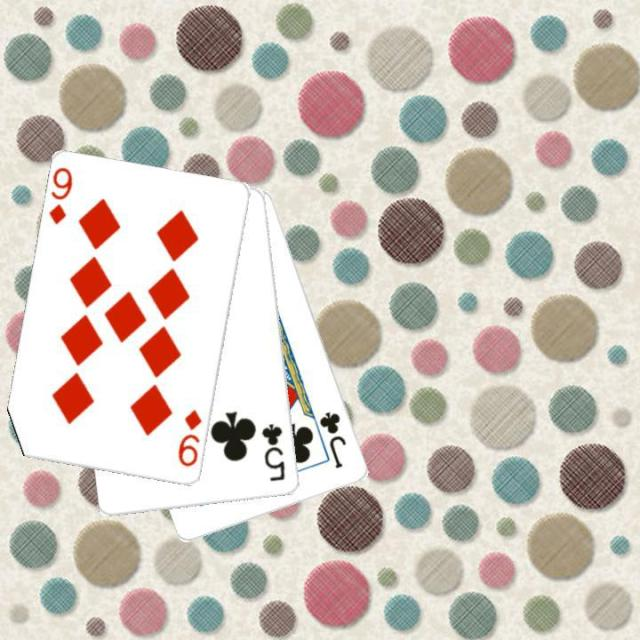5C: (258, 421, 287, 484)
9D: (174, 406, 204, 469), (45, 164, 75, 226)
JC: (316, 408, 348, 471)
